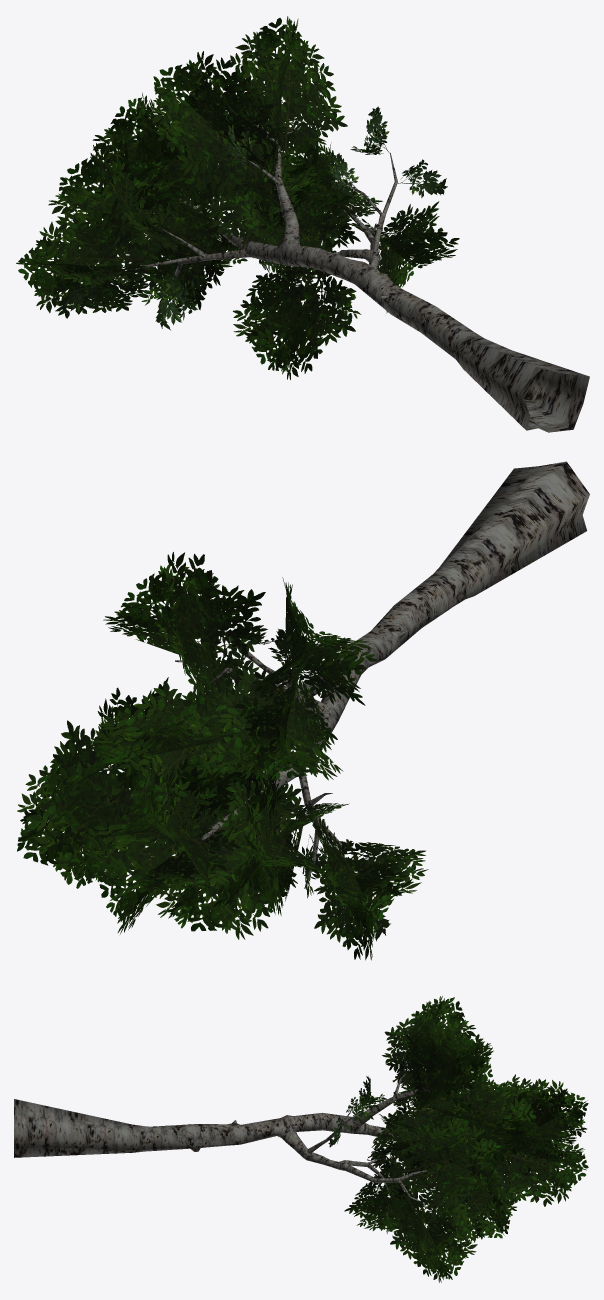
File: WhiteBirch_A4.obj
3 renders of one model, top to bottom at view 1: azimuth 30°, elevation 25°; view 2: azimuth 150°, elevation 25°; view 3: azimuth 270°, elevation 25°, orthographic. The views are drawn at different scales.
Visible parts, largest first — view 1: A_Twist00OutsideNormalOriginalModel_010__Mt_Treeleaf_00, B_Twist00OutsideNormalOriginalModel_01__Mt_Treeleaf_01, pCylinder121__Mt_Tree_Trunk, pCylinder121__Mt_Tree_Stump, polySurface1382_1__Mt_Treeleaf_02; view 2: A_Twist00OutsideNormalOriginalModel_010__Mt_Treeleaf_00, B_Twist00OutsideNormalOriginalModel_01__Mt_Treeleaf_01, pCylinder121__Mt_Tree_Stump, pCylinder121__Mt_Tree_Trunk, polySurface1382_1__Mt_Treeleaf_02; view 3: A_Twist00OutsideNormalOriginalModel_010__Mt_Treeleaf_00, B_Twist00OutsideNormalOriginalModel_01__Mt_Treeleaf_01, pCylinder121__Mt_Tree_Trunk, pCylinder121__Mt_Tree_Stump, polySurface1382_1__Mt_Treeleaf_02.
Boxes of the visible parts, x1,y1,x2,y2 form: A_Twist00OutsideNormalOriginalModel_010__Mt_Treeleaf_00: (16, 16, 459, 379); B_Twist00OutsideNormalOriginalModel_01__Mt_Treeleaf_01: (92, 92, 353, 308); pCylinder121__Mt_Tree_Trunk: (130, 119, 473, 359); pCylinder121__Mt_Tree_Stump: (453, 332, 589, 432); polySurface1382_1__Mt_Treeleaf_02: (58, 106, 447, 330); A_Twist00OutsideNormalOriginalModel_010__Mt_Treeleaf_00: (17, 552, 428, 960); B_Twist00OutsideNormalOriginalModel_01__Mt_Treeleaf_01: (85, 652, 349, 934); pCylinder121__Mt_Tree_Stump: (434, 461, 589, 607); pCylinder121__Mt_Tree_Trunk: (108, 573, 458, 888); polySurface1382_1__Mt_Treeleaf_02: (186, 569, 390, 941); A_Twist00OutsideNormalOriginalModel_010__Mt_Treeleaf_00: (344, 996, 559, 1282); B_Twist00OutsideNormalOriginalModel_01__Mt_Treeleaf_01: (367, 1077, 588, 1206); pCylinder121__Mt_Tree_Trunk: (149, 1068, 429, 1204); pCylinder121__Mt_Tree_Stump: (14, 1099, 148, 1157); polySurface1382_1__Mt_Treeleaf_02: (328, 1038, 416, 1233).
Size of the model in its own units: 12.46 by 9.64 by 21.47.
8 materials, 7 textured.
